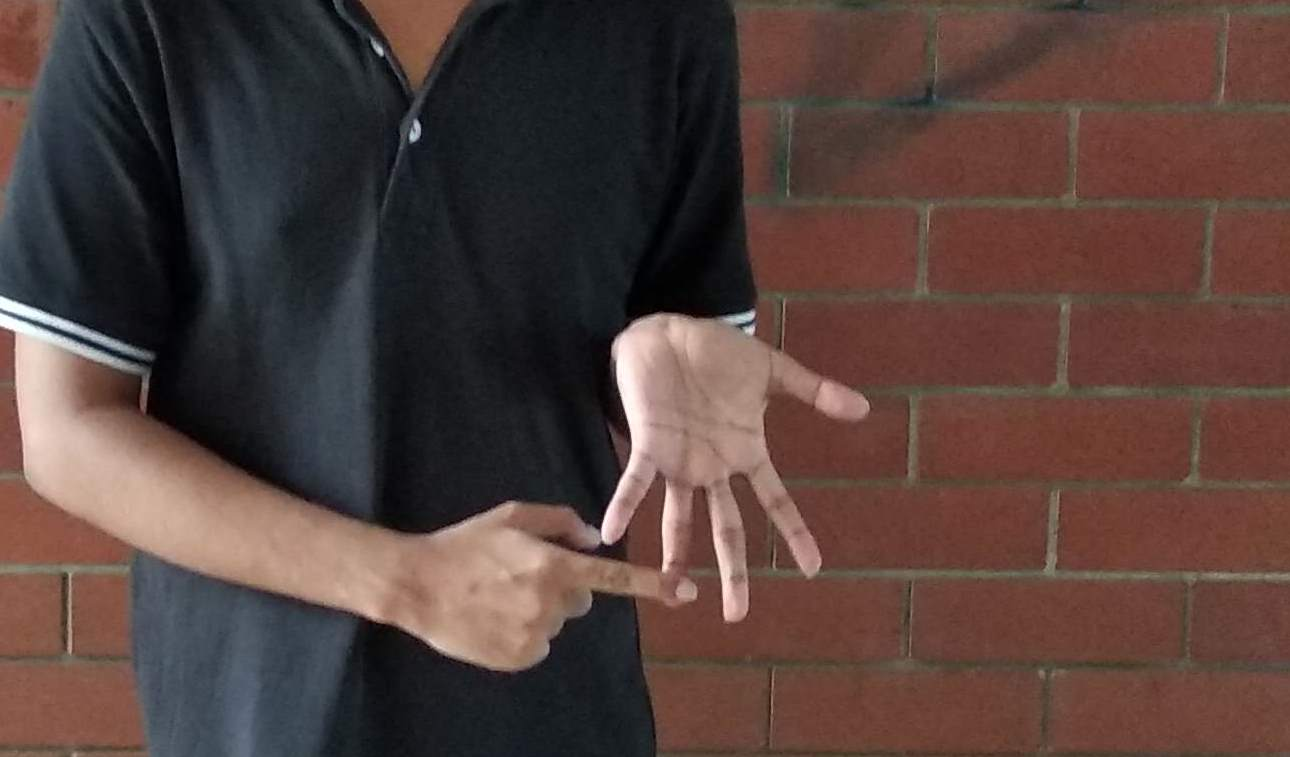e: (531, 322, 854, 654)
